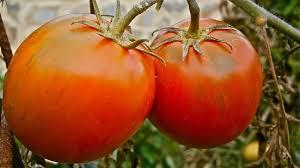Masak: (7, 15, 151, 164), (158, 14, 262, 150)
